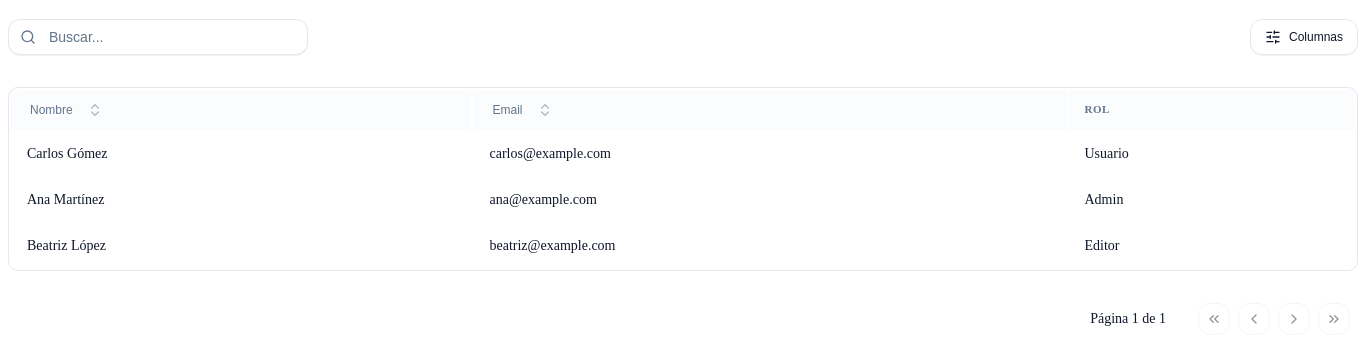
DataTable Component › toggles column visibility from the dropdown menu
Expected: the text "carlos@example.com" is shown, [474,132,1066,176]
Click the button "Columnas" at (1304,37), box [1250,19,1358,55]
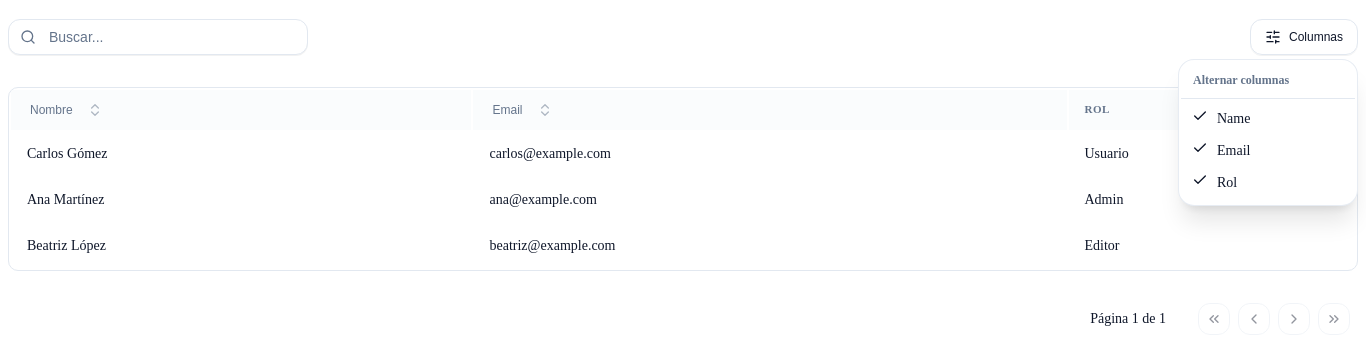
Click the menu item "email" at (1221,149), box [1192,140,1250,158]
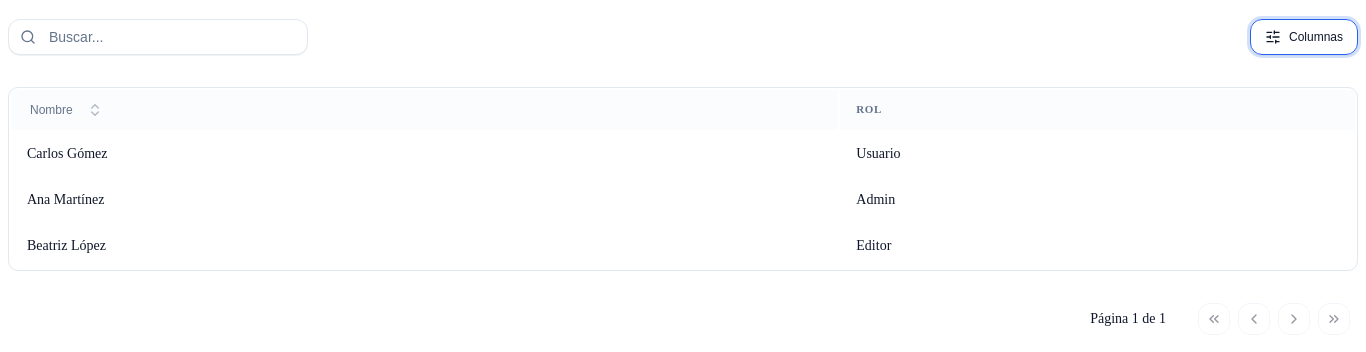
Expected: the text "carlos@example.com" is gone
# Toggle Email back on
Click the button "Columnas" at (1304,37), box [1250,19,1358,55]
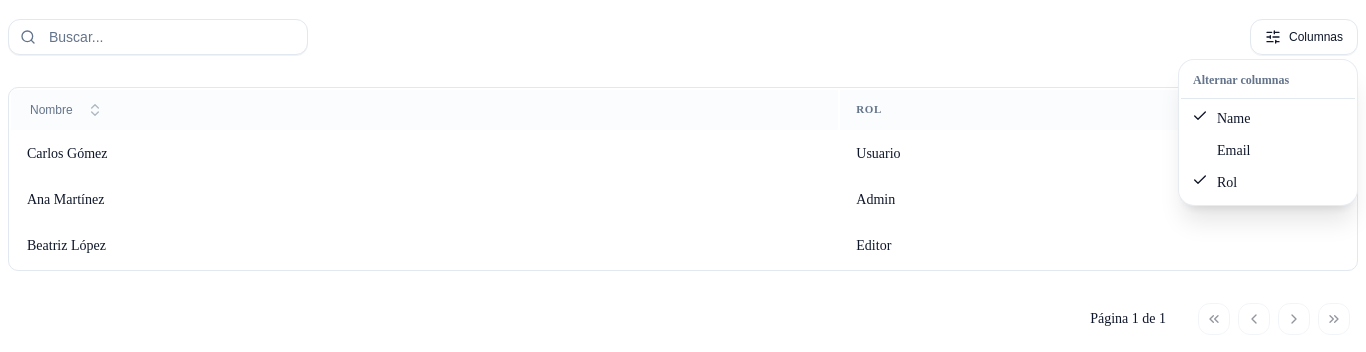
Click the menu item "email" at (1234,150), box [1217,143,1250,158]
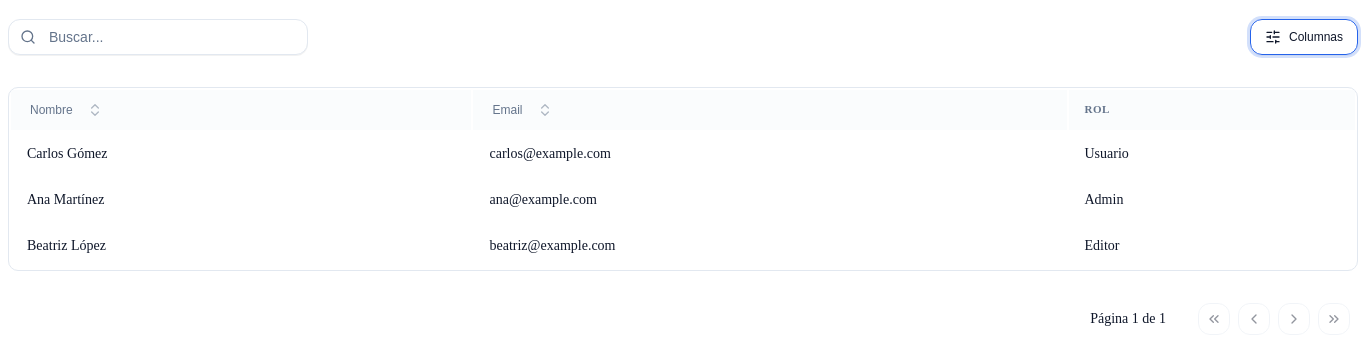
Expected: the text "carlos@example.com" is shown, [474,132,1066,176]
